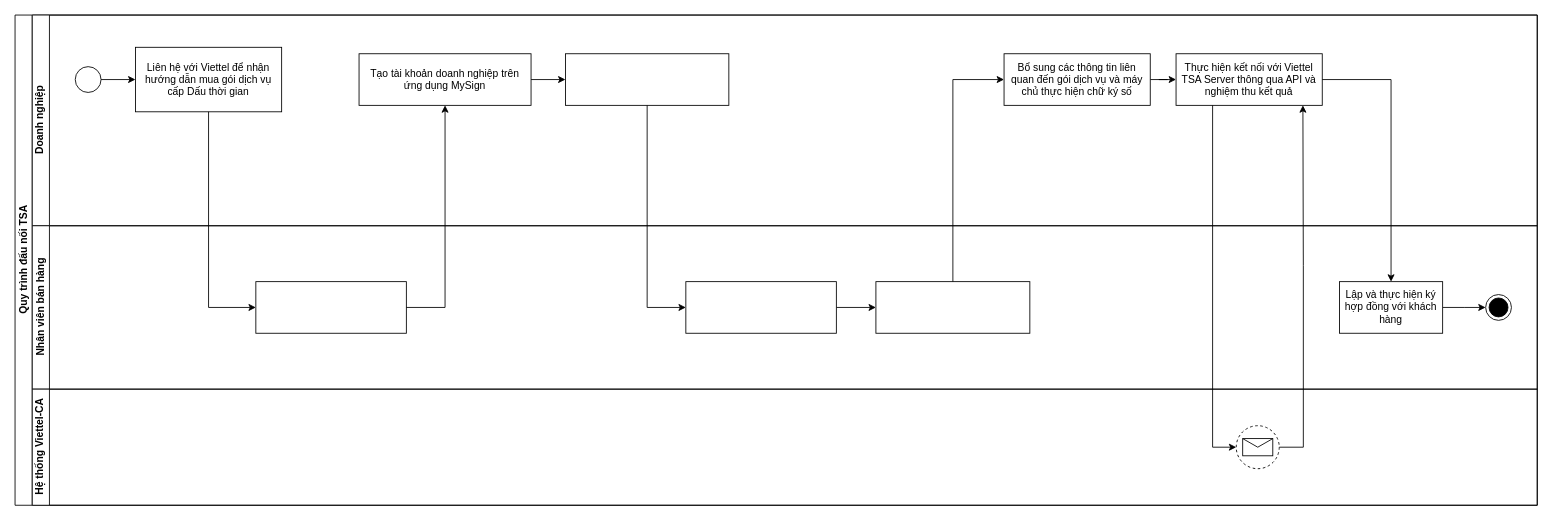
Some shapes in this 1552 by 520 pixel diagram are drawn without their labels. Each missing label, with the centre of its shape:
"Chọn gói dịch vụ cấp Dấu thời gian" goes at pixel 647 79.
"Liên hệ với khách hàng, cung cấp báo giá, tài liệu hướng dẫn, API" goes at pixel 760 307.
"Tiếp nhận yêu cầu và hướng dẫn khách hàng" goes at pixel 330 307.
"Tạo license test API và yêu cầu khách hàng bổ sung thông tin hoàn thiện license" goes at pixel 952 307.
